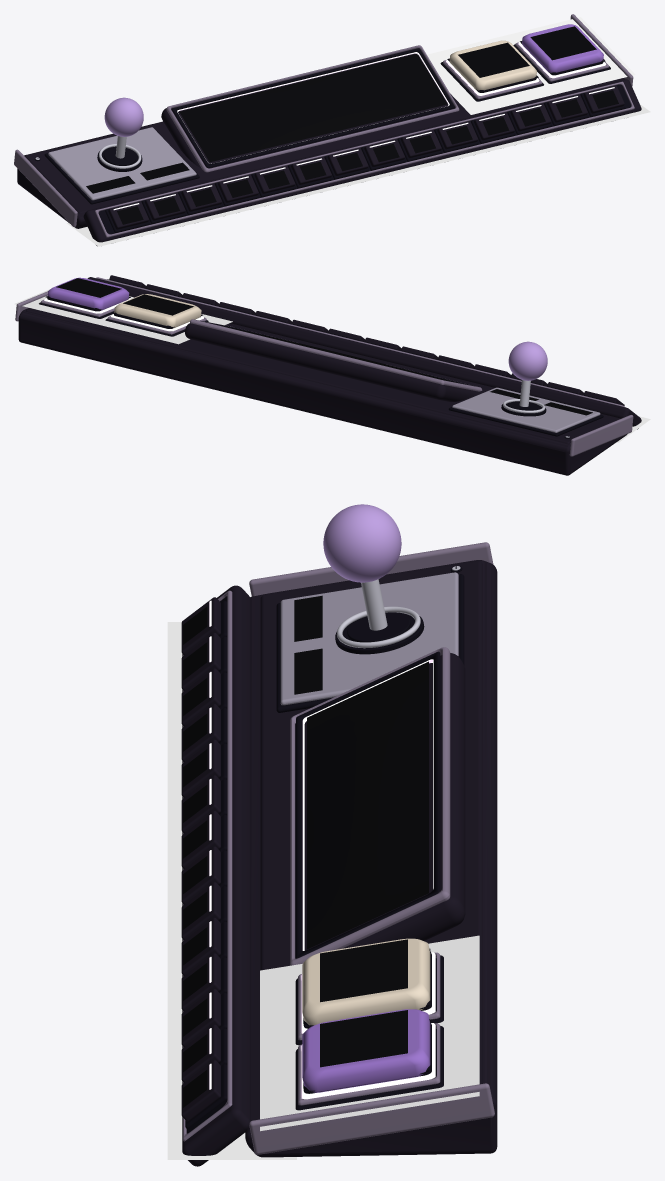
Rendered from navigation-marquee-v2.glb.
3 views of the same model, one above another, from view 1: azimuth 30°, elevation 25°; view 2: azimuth 150°, elevation 25°; view 3: azimuth 270°, elevation 25° (orthographic). The views are drawn at different scales.
Visible parts, largest first — view 1: display_main, continuous_deck, joystick_brushed_plate, station_rail_shell, station_rail_lip, glow_underlight, marquee_inner_seal, marquee_outer_nickel, marquee_back, glow_ctl_directory, glow_ctl_open, ctl_open_cap (+30 smaller); view 2: housing_cast_shell, continuous_deck, station_rail_shell, marquee_back, joystick_brushed_plate, marquee_outer_nickel, joystick_balltop, ctl_open_cap, metal_end_cap, ctl_directory_cap, station_rail_lip, glow_ctl_open (+5 smaller); view 3: display_main, continuous_deck, housing_cast_shell, station_rail_shell, joystick_brushed_plate, glow_underlight, marquee_back, metal_end_cap.001, glow_ctl_directory, glow_ctl_open, marquee_outer_nickel, ctl_directory_cap (+31 smaller).
Part boxes in pixels (left/top/right/bottom): display_main: left=179, top=54, right=447, bottom=162; continuous_deck: left=24, top=78, right=622, bottom=213; joystick_brushed_plate: left=48, top=127, right=196, bottom=200; station_rail_shell: left=83, top=79, right=641, bottom=246; station_rail_lip: left=95, top=81, right=634, bottom=237; glow_underlight: left=66, top=104, right=650, bottom=246; marquee_inner_seal: left=171, top=48, right=454, bottom=168; marquee_outer_nickel: left=166, top=45, right=459, bottom=172; marquee_back: left=161, top=53, right=455, bottom=168; glow_ctl_directory: left=489, top=17, right=635, bottom=97; glow_ctl_open: left=427, top=36, right=551, bottom=114; ctl_open_cap: left=449, top=40, right=536, bottom=90; housing_cast_shell: left=18, top=308, right=627, bottom=475; continuous_deck: left=26, top=308, right=619, bottom=443; station_rail_shell: left=87, top=277, right=641, bottom=429; marquee_back: left=185, top=323, right=478, bottom=401; joystick_brushed_plate: left=452, top=387, right=600, bottom=432; marquee_outer_nickel: left=190, top=319, right=482, bottom=391; joystick_balltop: left=508, top=341, right=547, bottom=380; ctl_open_cap: left=114, top=294, right=201, bottom=328; metal_end_cap: left=569, top=415, right=633, bottom=456; ctl_directory_cap: left=47, top=277, right=129, bottom=310; station_rail_lip: left=96, top=277, right=624, bottom=407; glow_ctl_open: left=81, top=314, right=232, bottom=344; display_main: left=307, top=661, right=428, bottom=949; continuous_deck: left=260, top=561, right=482, bottom=1084; housing_cast_shell: left=245, top=560, right=497, bottom=1157; station_rail_shell: left=182, top=585, right=250, bottom=1166; joystick_brushed_plate: left=280, top=572, right=458, bottom=705; glow_underlight: left=167, top=622, right=296, bottom=1159; marquee_back: left=304, top=653, right=465, bottom=950; metal_end_cap.001: left=249, top=1083, right=494, bottom=1154; glow_ctl_directory: left=260, top=1006, right=479, bottom=1131; glow_ctl_open: left=260, top=935, right=479, bottom=1065; marquee_outer_nickel: left=290, top=647, right=450, bottom=965; ctl_directory_cap: left=302, top=1009, right=430, bottom=1092.
Bounding box in the file's own units: 4.02 × 0.6828 × 1.02.
